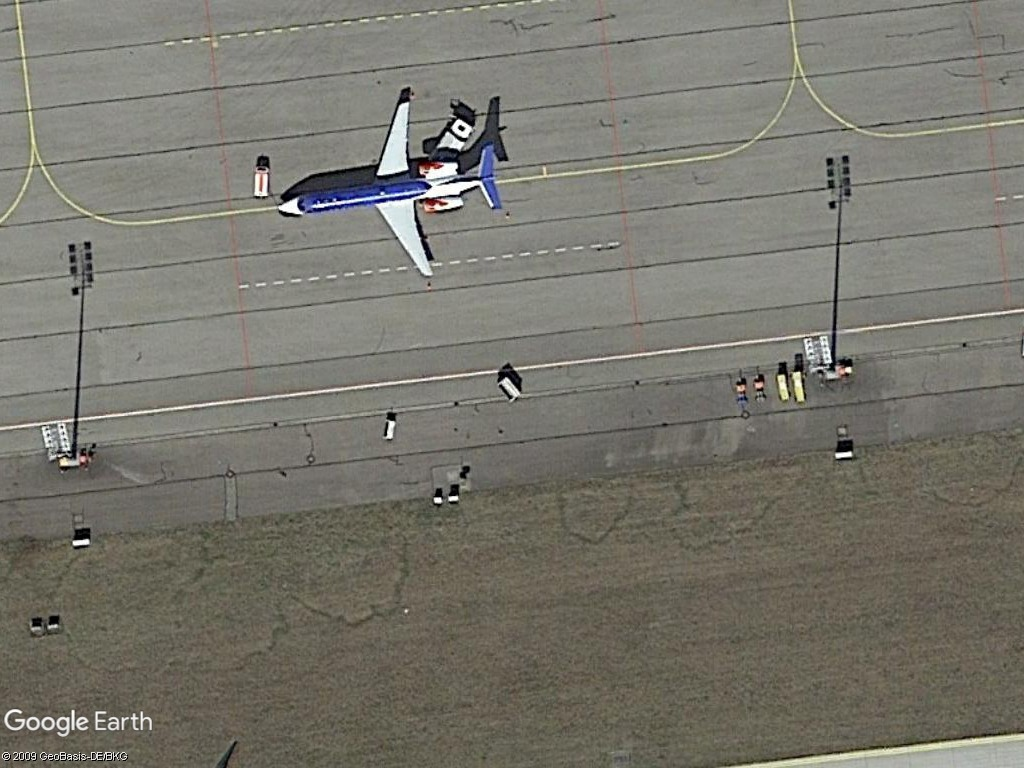chartered: (272, 84, 519, 286)
